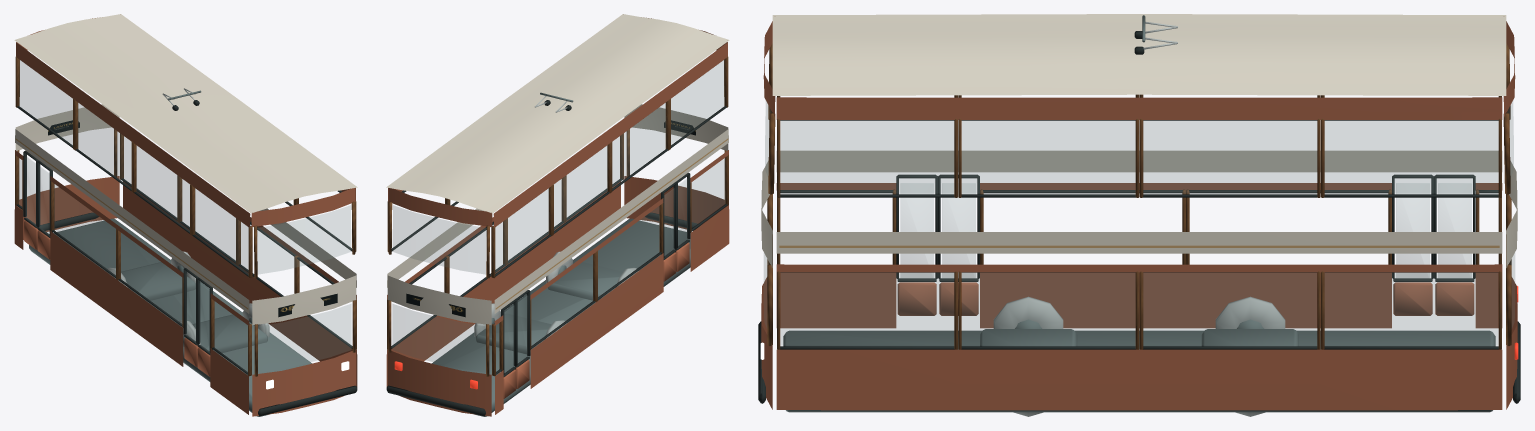
File: vesper-t9-lod2.glb
The picture shows the model from 3 angles, left to right: view 1: azimuth 30°, elevation 25°; view 2: azimuth 150°, elevation 25°; view 3: azimuth 270°, elevation 25°; orthographic projection. The views are drawn at different scales.
Parts seen in each view (by area): view 1: LOD2-tram-detail-2-pearl-batch, LOD2-tram-detail-2-glass-batch, LOD2-tram-detail-2-paintFar-batch, LOD2-tram-detail-2-steel-batch, LOD2-tram-detail-2-wood-batch, LOD2-tram-detail-2-dark-batch, LOD2-tram-door-0-port-leaf-1-glass-batch, LOD2-tram-door-1-port-leaf-1-glass-batch, LOD2-tram-door-1-port-leaf--1-glass-batch, LOD2-tram-door-0-port-leaf--1-glass-batch, LOD2-tram-detail-2-display-batch, LOD2-tram-door-1-port-leaf-1-dark-batch (+4 smaller); view 2: LOD2-tram-detail-2-pearl-batch, LOD2-tram-detail-2-glass-batch, LOD2-tram-detail-2-paintFar-batch, LOD2-tram-detail-2-steel-batch, LOD2-tram-detail-2-wood-batch, LOD2-tram-detail-2-dark-batch, LOD2-tram-door-1-port-leaf--1-glass-batch, LOD2-tram-door-0-port-leaf--1-glass-batch, LOD2-tram-door-0-port-leaf-1-glass-batch, LOD2-tram-door-1-port-leaf-1-glass-batch, LOD2-tram-detail-2-display-batch, LOD2-tram-door-0-port-leaf--1-dark-batch (+4 smaller); view 3: LOD2-tram-detail-2-glass-batch, LOD2-tram-detail-2-paintFar-batch, LOD2-tram-detail-2-pearl-batch, LOD2-tram-detail-2-steel-batch, LOD2-tram-detail-2-dark-batch, LOD2-tram-detail-2-wood-batch, LOD2-tram-detail-2-livery-batch, LOD2-tram-door-0-port-leaf-1-glass-batch, LOD2-tram-door-0-port-leaf--1-glass-batch, LOD2-tram-door-1-port-leaf-1-glass-batch, LOD2-tram-door-1-port-leaf--1-glass-batch, LOD2-wheel-front--1-metal-batch (+9 smaller).
Boxes of the visible parts, x1,y1,x2,y2 form: LOD2-tram-detail-2-pearl-batch: [14, 14, 357, 325]; LOD2-tram-detail-2-glass-batch: [18, 60, 351, 372]; LOD2-tram-detail-2-paintFar-batch: [14, 17, 357, 416]; LOD2-tram-detail-2-steel-batch: [29, 90, 311, 416]; LOD2-tram-detail-2-wood-batch: [15, 56, 356, 376]; LOD2-tram-detail-2-dark-batch: [16, 100, 357, 415]; LOD2-tram-door-0-port-leaf-1-glass-batch: [39, 167, 49, 234]; LOD2-tram-door-1-port-leaf-1-glass-batch: [199, 284, 209, 351]; LOD2-tram-door-1-port-leaf--1-glass-batch: [186, 274, 195, 341]; LOD2-tram-door-0-port-leaf--1-glass-batch: [26, 157, 35, 224]; LOD2-tram-detail-2-display-batch: [48, 120, 337, 317]; LOD2-tram-door-1-port-leaf-1-dark-batch: [197, 278, 212, 354]; LOD2-tram-detail-2-pearl-batch: [386, 14, 729, 325]; LOD2-tram-detail-2-glass-batch: [392, 60, 725, 372]; LOD2-tram-detail-2-paintFar-batch: [386, 17, 729, 416]; LOD2-tram-detail-2-steel-batch: [432, 92, 690, 416]; LOD2-tram-detail-2-wood-batch: [387, 56, 728, 376]; LOD2-tram-detail-2-dark-batch: [386, 100, 727, 415]; LOD2-tram-door-1-port-leaf--1-glass-batch: [664, 189, 674, 256]; LOD2-tram-door-0-port-leaf--1-glass-batch: [504, 306, 514, 373]; LOD2-tram-door-0-port-leaf-1-glass-batch: [518, 296, 527, 363]; LOD2-tram-door-1-port-leaf-1-glass-batch: [678, 179, 687, 246]; LOD2-tram-detail-2-display-batch: [406, 120, 695, 317]; LOD2-tram-door-0-port-leaf--1-dark-batch: [501, 299, 516, 376]; LOD2-tram-detail-2-glass-batch: [764, 102, 1514, 345]; LOD2-tram-detail-2-paintFar-batch: [761, 21, 1517, 410]; LOD2-tram-detail-2-pearl-batch: [761, 14, 1517, 267]; LOD2-tram-detail-2-steel-batch: [783, 15, 1495, 412]; LOD2-tram-detail-2-dark-batch: [758, 31, 1520, 403]; LOD2-tram-detail-2-wood-batch: [767, 43, 1511, 349]; LOD2-tram-detail-2-livery-batch: [779, 245, 1499, 247]; LOD2-tram-door-0-port-leaf-1-glass-batch: [1396, 183, 1429, 278]; LOD2-tram-door-0-port-leaf--1-glass-batch: [1438, 183, 1471, 278]; LOD2-tram-door-1-port-leaf-1-glass-batch: [900, 183, 933, 278]; LOD2-tram-door-1-port-leaf--1-glass-batch: [942, 183, 975, 278]; LOD2-wheel-front--1-metal-batch: [993, 296, 1063, 328].
Size of the model in its own units: 2.27 by 4.69 by 8.93.
11 materials, 2 textured.
